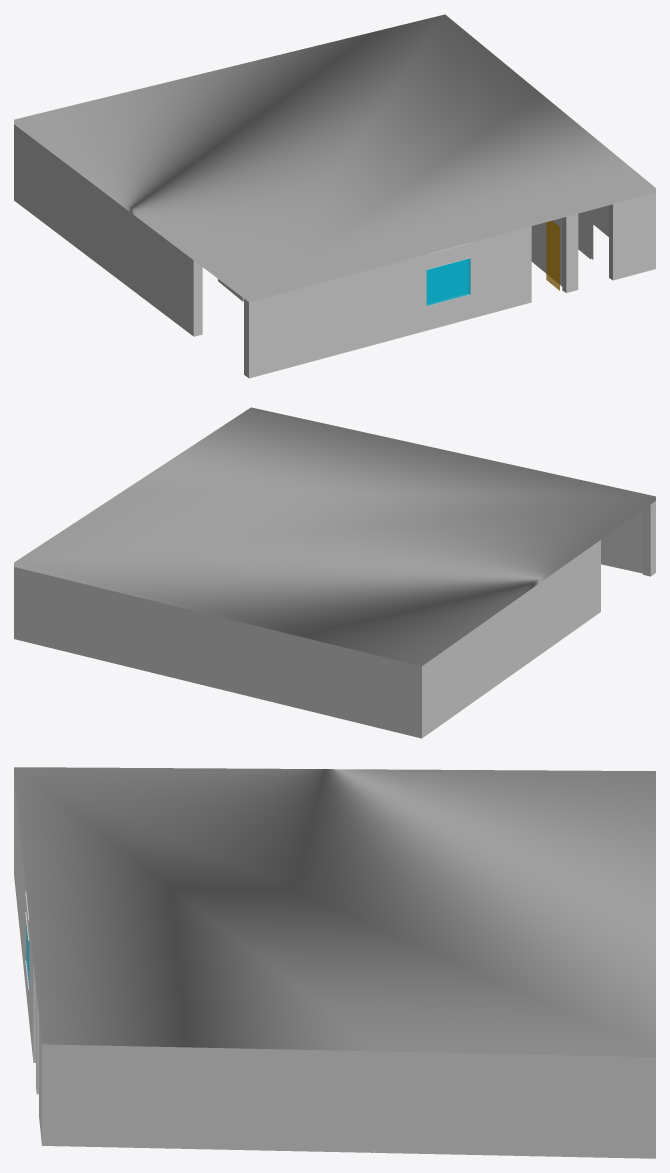
Rendered from ede979f7-d762-455f-ae96-27bf2561b71d.glb.
3 renders of one model, top to bottom at view 1: azimuth 30°, elevation 25°; view 2: azimuth 150°, elevation 25°; view 3: azimuth 270°, elevation 25°, orthographic. The views are drawn at different scales.
Parts seen in each view (by area): view 1: roof, walls, windows, doors; view 2: roof, walls; view 3: roof, walls.
Boxes of the visible parts, x1,y1,x2,y2 form: roof: [14, 14, 655, 301]; walls: [14, 124, 655, 378]; windows: [426, 258, 470, 305]; doors: [546, 220, 559, 290]; roof: [14, 407, 655, 666]; walls: [14, 501, 655, 738]; roof: [14, 767, 655, 1057]; walls: [14, 775, 655, 1158].
Bounding box in the file's own units: 14.99 × 2.65 × 14.32.
